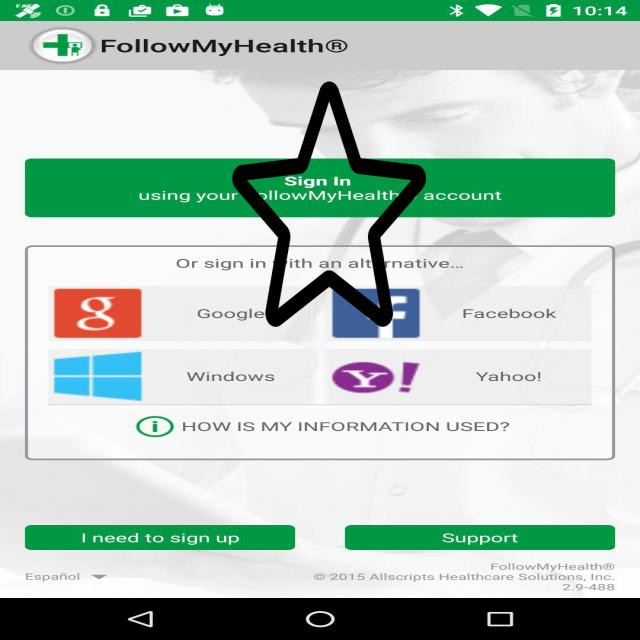forced continuity: (232, 76, 426, 332)
